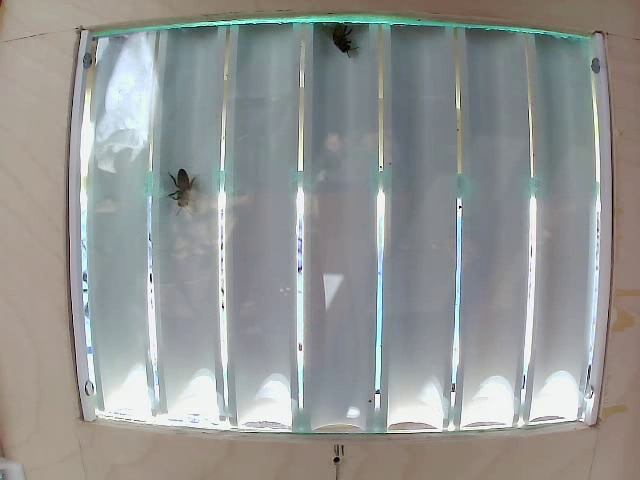bee: (166, 164, 219, 221), (341, 14, 367, 84)
